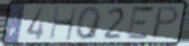2: (102, 5, 127, 41)
4: (24, 5, 47, 42)
E: (125, 4, 157, 43)
H: (48, 5, 78, 42)
P: (149, 5, 182, 41)
Q: (75, 5, 103, 42)
